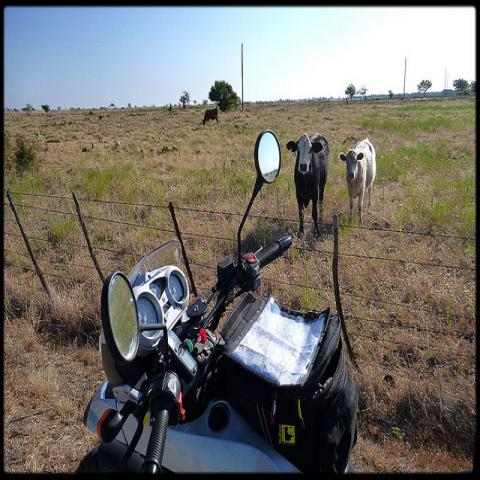motorcycle: (80, 121, 310, 471)
